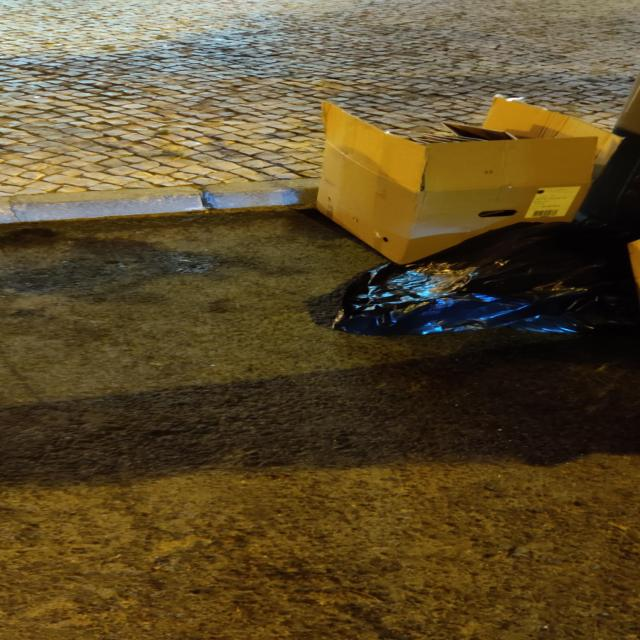litter: (291, 87, 611, 262), (338, 233, 636, 345)
